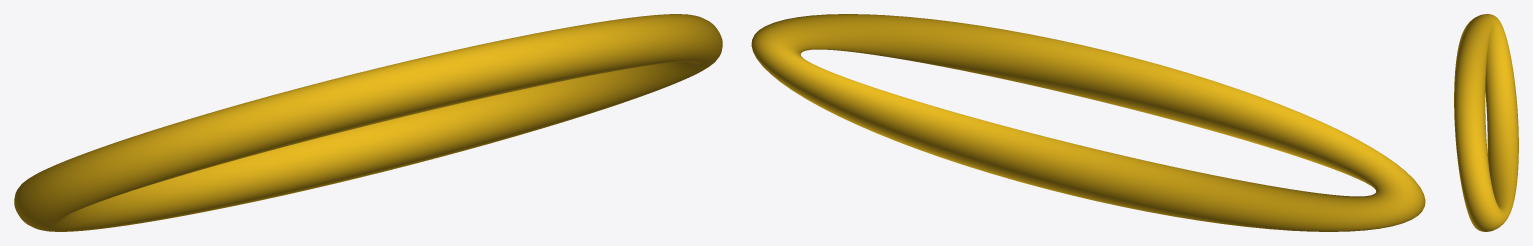
The model's file is zcollar-gld-3d.glb.
3 views of the same model, side by side, from view 1: azimuth 30°, elevation 25°; view 2: azimuth 150°, elevation 25°; view 3: azimuth 270°, elevation 25° (orthographic). The views are drawn at different scales.
Parts seen in each view (by area): view 1: mesh_id38; view 2: mesh_id38; view 3: mesh_id38.
Boxes of the visible parts, x1,y1,x2,y2 form: mesh_id38: (14, 14, 722, 231); mesh_id38: (751, 14, 1425, 231); mesh_id38: (1454, 14, 1518, 231).
Bounding box in the file's own units: 0.3199 × 0.0551 × 0.0436.
Materials: 1 (1 with a texture image).
